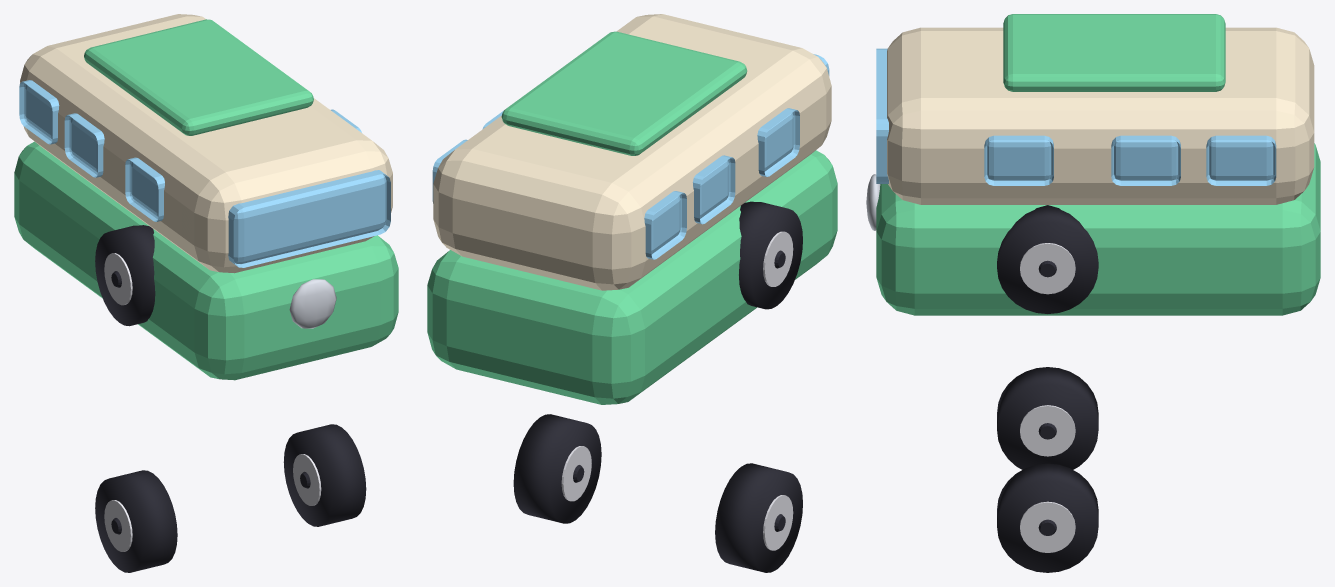
File: Car_Camper.fbx
3 renders of one model, left to right at view 1: azimuth 30°, elevation 25°; view 2: azimuth 150°, elevation 25°; view 3: azimuth 270°, elevation 25°, orthographic. The views are drawn at different scales.
Visible parts, largest first — view 1: Car_Camper, Wheel_FL, Wheel_FR, Wheel_RL; view 2: Car_Camper, Wheel_FL, Wheel_FR, Wheel_RL; view 3: Car_Camper, Wheel_FR, Wheel_FL, Wheel_RR.
Boxes of the visible parts, x1,y1,x2,y2 form: Car_Camper: [14, 14, 398, 380]; Wheel_FL: [95, 470, 177, 572]; Wheel_FR: [283, 424, 366, 526]; Wheel_RL: [95, 225, 155, 326]; Car_Camper: [427, 14, 837, 404]; Wheel_FL: [715, 463, 802, 572]; Wheel_FR: [513, 414, 601, 523]; Wheel_RL: [739, 201, 802, 309]; Car_Camper: [866, 14, 1320, 315]; Wheel_FR: [997, 463, 1098, 572]; Wheel_FL: [997, 367, 1098, 469]; Wheel_RR: [997, 205, 1098, 313].
Size of the model in its own units: 0.8838 by 1.64 by 1.43.
